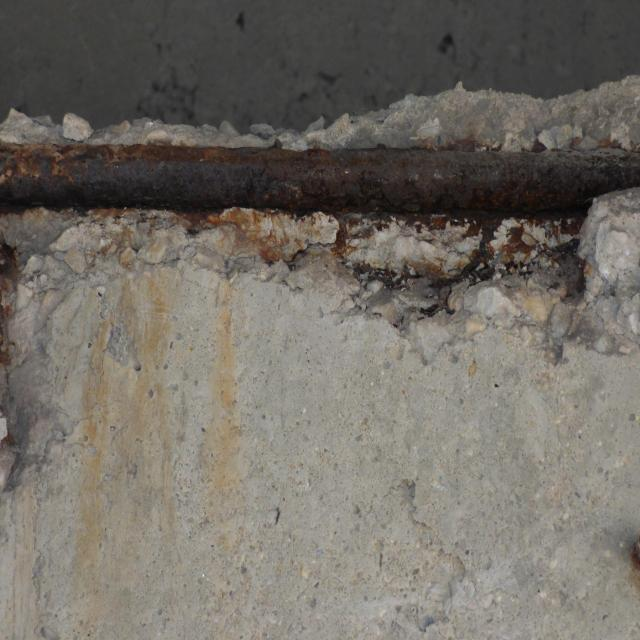Rebar: (0, 76, 640, 492), (628, 533, 640, 583)
diagonal crack: (31, 341, 123, 480)
